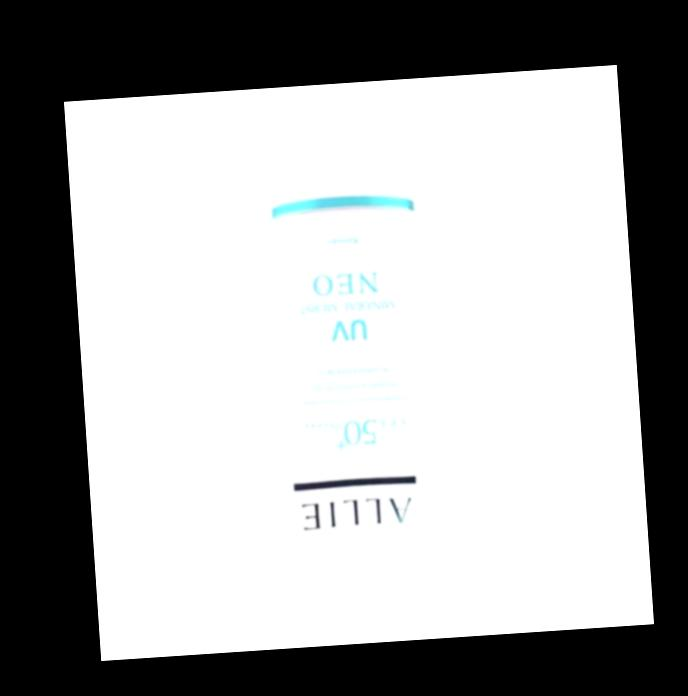cosmetic: (235, 112, 468, 618)
